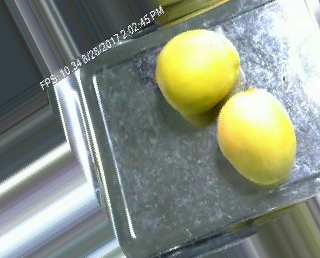Mango: (214, 88, 301, 186), (155, 30, 240, 114)
